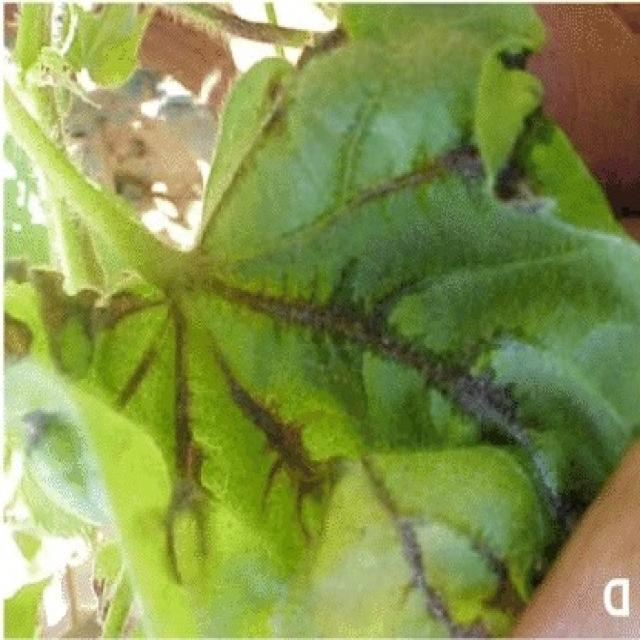Bacterial Blight: (179, 190, 591, 503)
